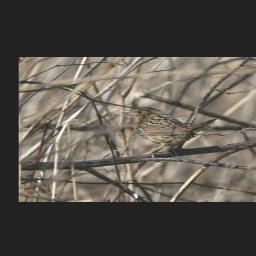Sparrow: (119, 105, 220, 158)
